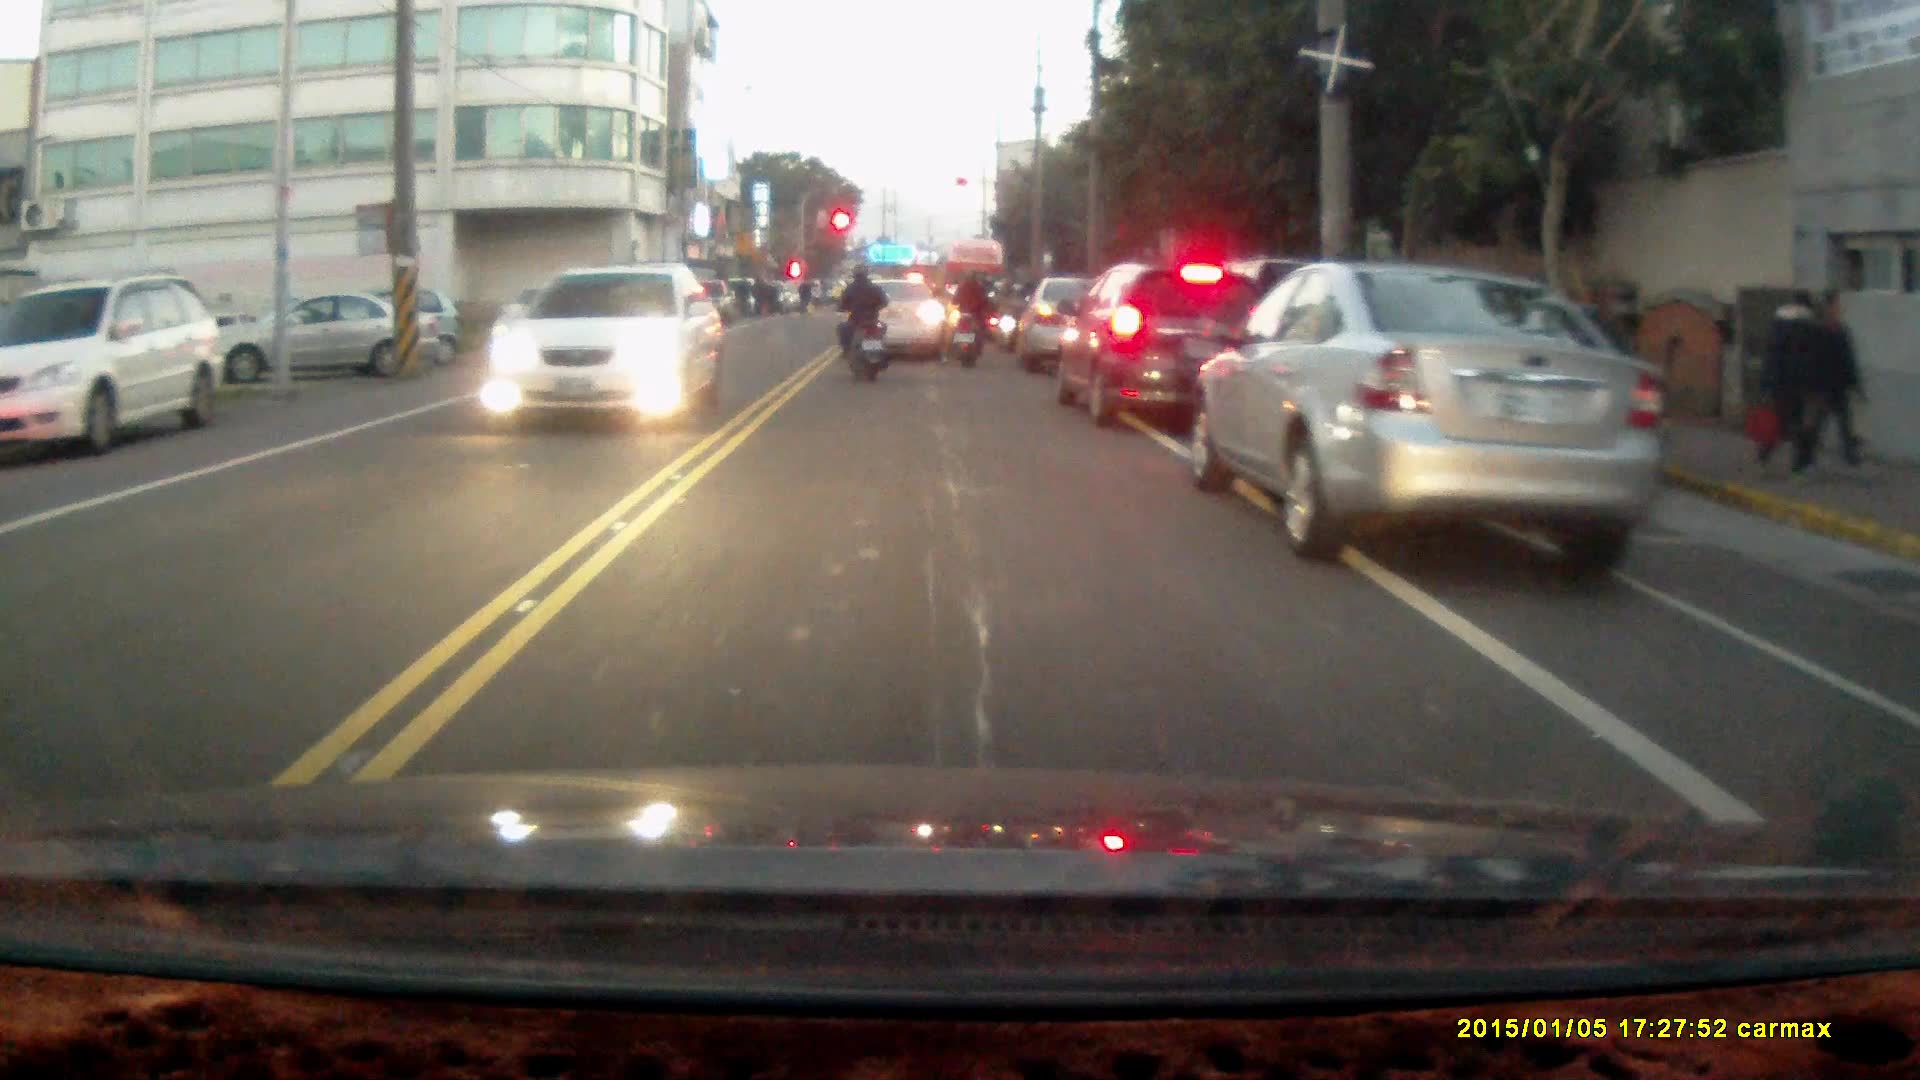pedestrian: (1759, 284, 1820, 487), (1809, 293, 1865, 482)
rider: (834, 266, 889, 386), (946, 269, 997, 368)
vehicle: (1186, 263, 1673, 581), (3, 273, 227, 462), (485, 266, 721, 432), (1056, 271, 1275, 440), (221, 295, 438, 382), (1015, 275, 1137, 383), (842, 288, 954, 372)
